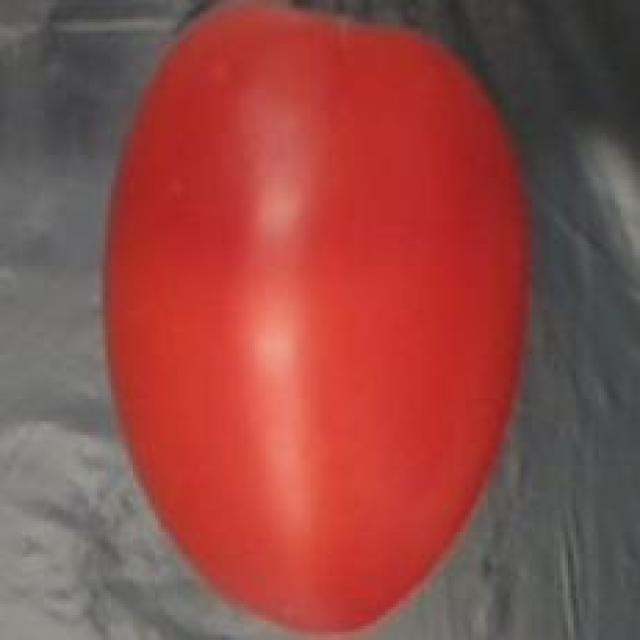ripe tomato: (83, 0, 549, 640)
